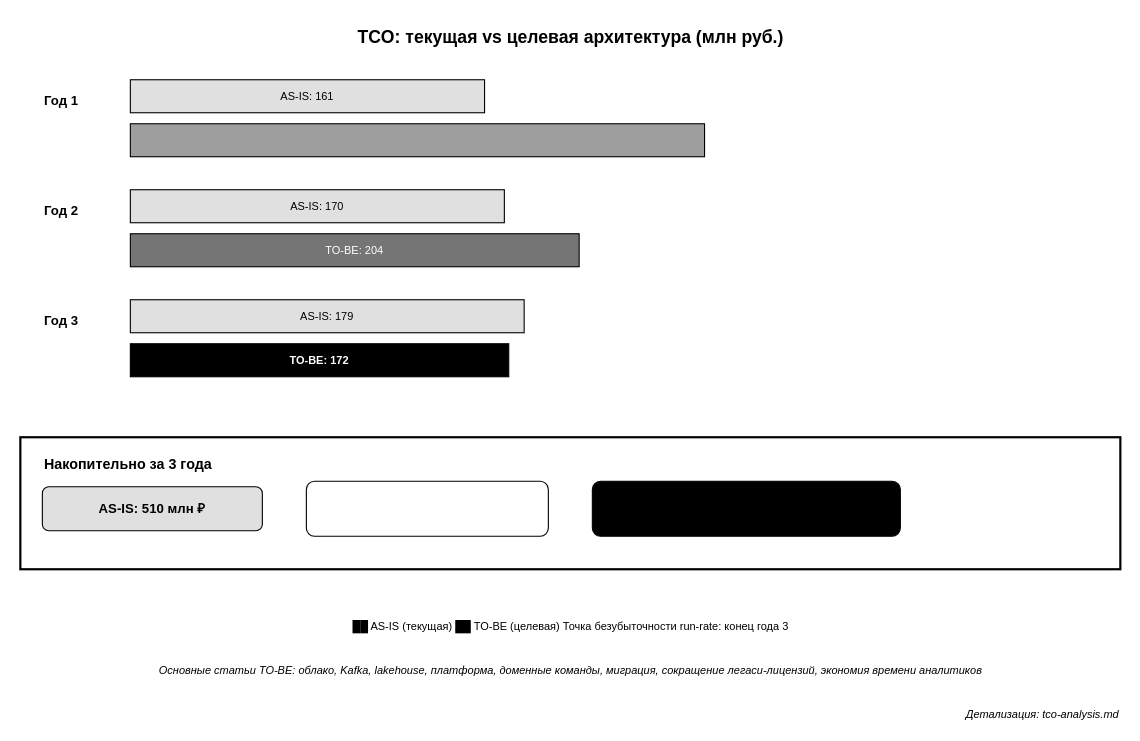
This 1140x741 diagram has some shape labels left out. The shapes that lost their labels are listed below. From the top down, each one's box as (x1, y1, x2, y2) in pixels, then its label:
(129, 123, 705, 157): TO-BE: 261
(305, 480, 548, 536): TO-BE: 637 млн ₽ (вкл. миграцию 95 млн)
(591, 480, 900, 536): Run-rate год 4+ (прогноз): AS-IS ~188 / TO-BE ~155 млн ₽/год
